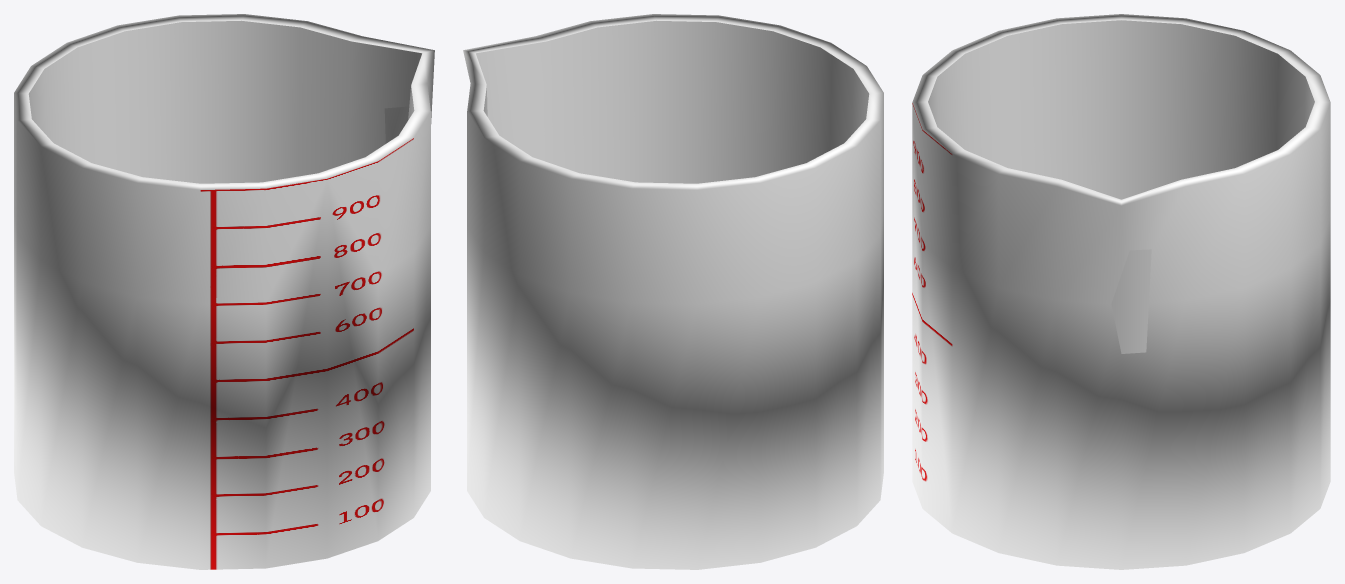
Rendered from measuring cup2.fbx.
3 renders of one model, left to right at view 1: azimuth 30°, elevation 25°; view 2: azimuth 150°, elevation 25°; view 3: azimuth 270°, elevation 25°, orthographic.
Visible parts, largest first — view 1: pCylinder2; view 2: pCylinder2; view 3: pCylinder2.
Part boxes in pixels (bbox=[...]): pCylinder2: bbox=[14, 14, 434, 569]; pCylinder2: bbox=[463, 14, 883, 569]; pCylinder2: bbox=[912, 14, 1330, 569].
Size of the model in its own units: 2.17 by 2 by 2.
